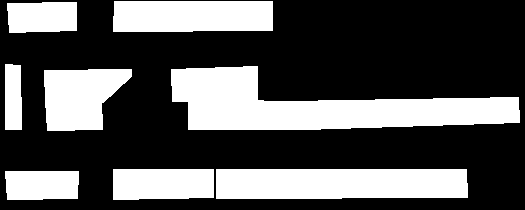parkingspot: (188, 97, 519, 129), (216, 169, 467, 198), (113, 1, 272, 31), (171, 66, 257, 101), (113, 169, 213, 199), (44, 69, 131, 103), (7, 2, 76, 32), (5, 171, 78, 199), (45, 99, 102, 130), (5, 64, 21, 129)
